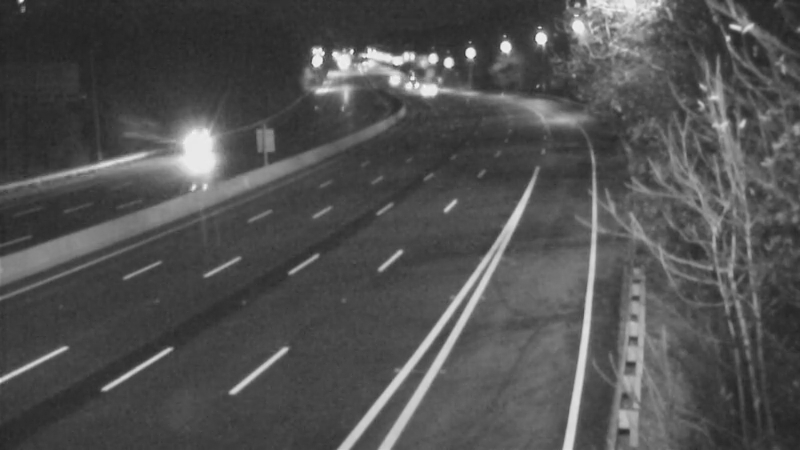vehicle: (369, 54, 419, 104), (379, 54, 429, 104), (408, 65, 458, 115), (171, 122, 221, 172)
